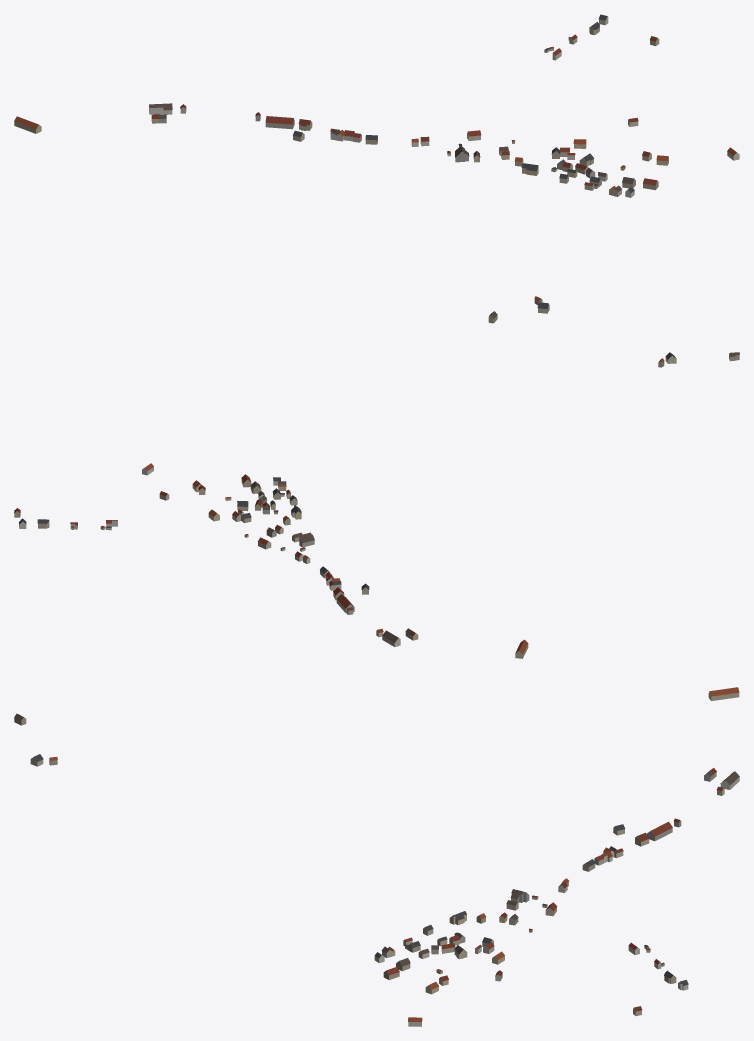
3 renders of one model, top to bottom at view 1: azimuth 30°, elevation 25°; view 2: azimuth 150°, elevation 25°; view 3: azimuth 270°, elevation 25°, orthographic. The views are drawn at different scales.
Visible parts, largest first — view 1: buildings; view 2: buildings; view 3: buildings.
Part boxes in pixels (<box>): buildings: <box>14,14,739,323</box>; buildings: <box>14,352,739,658</box>; buildings: <box>14,687,739,1026</box>.
Bounding box in the file's own units: 778 × 116 × 808.
